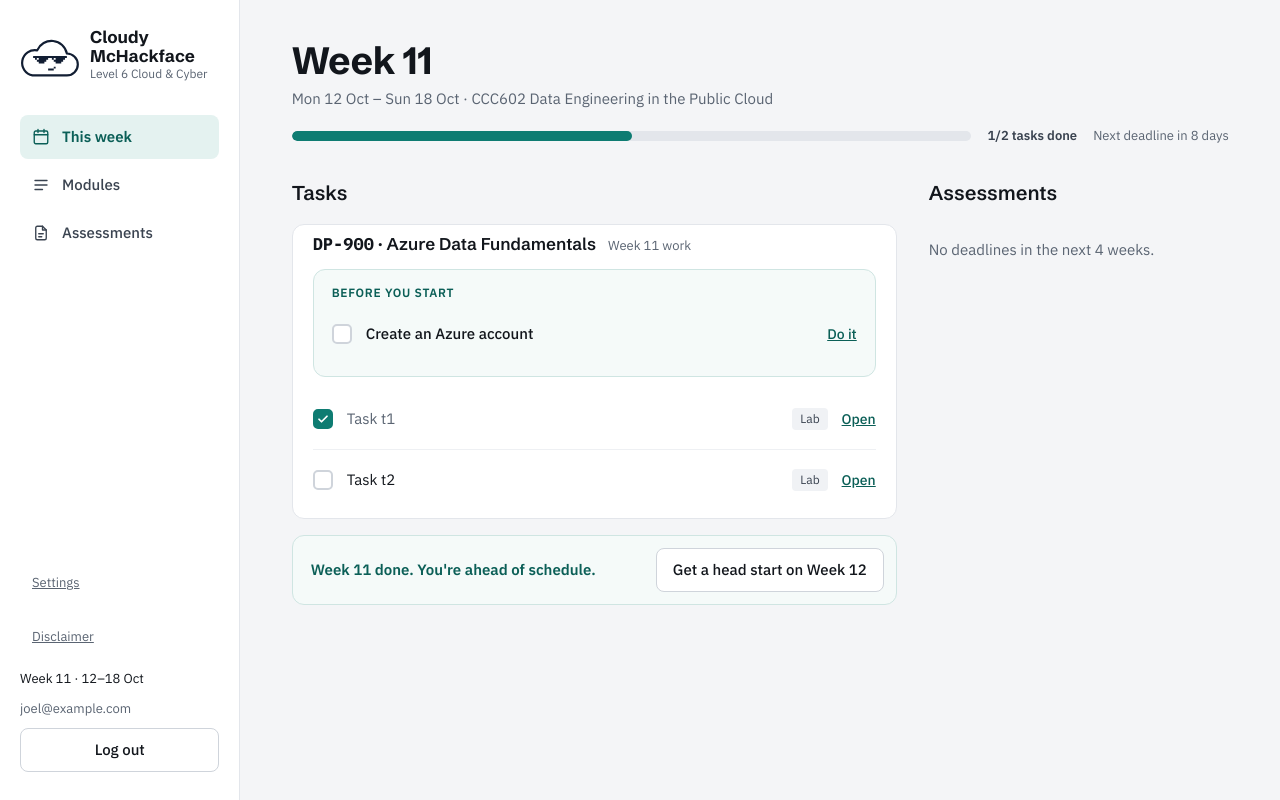
it: ThisWeekPage › says when next week isn't in the app
Click the button "Get a head start on Week 12".
click(770, 570)  # box x1=656 y1=548 x2=884 y2=592
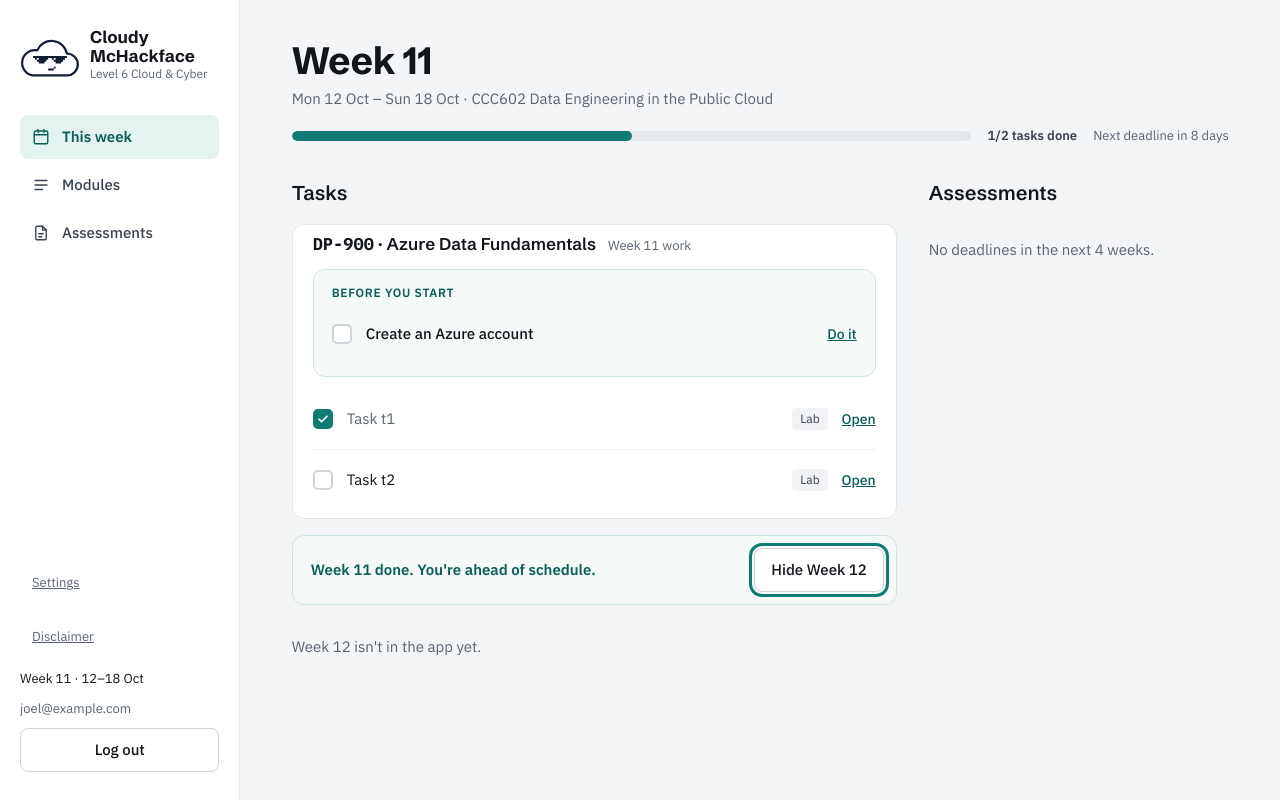
expect the text "Week 12 isn't in the app yet." is shown: met, box x1=292 y1=637 x2=481 y2=656
